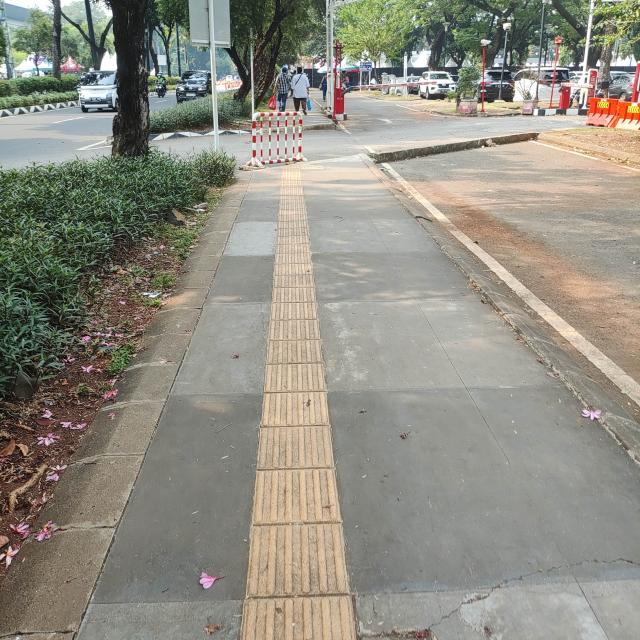lurus: (261, 184, 335, 640)
